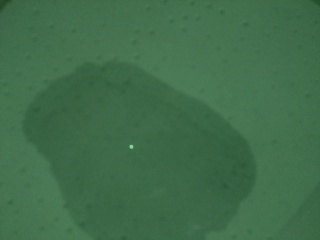Water_detected: (61, 87, 219, 227)
